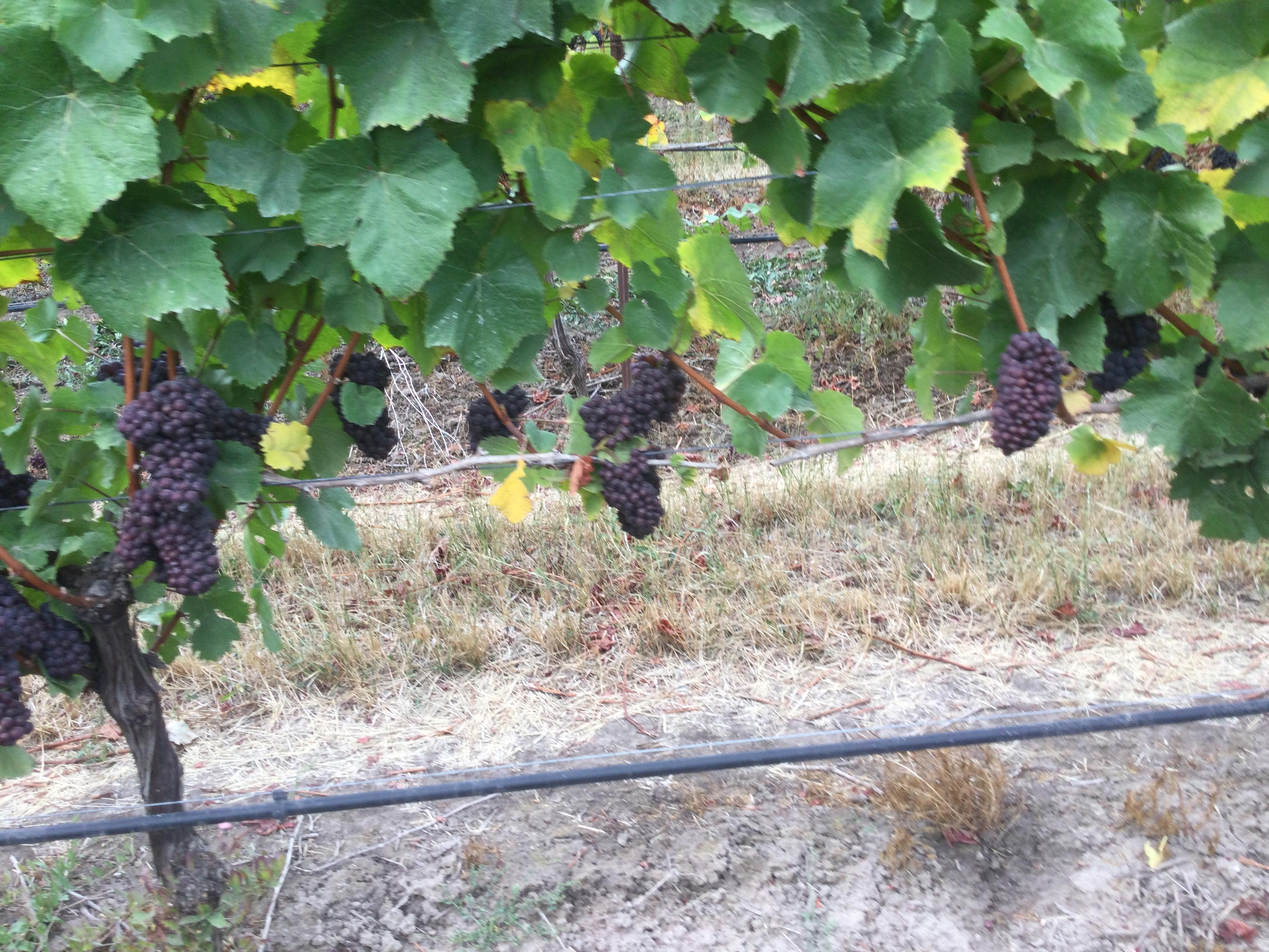leaf: (0, 25, 158, 238), (301, 128, 477, 298), (54, 182, 227, 338), (979, 0, 1139, 150), (814, 104, 964, 260), (313, 0, 474, 129), (1099, 169, 1223, 313), (426, 229, 544, 379), (845, 190, 984, 314), (1005, 175, 1110, 327), (1152, 0, 1268, 136), (731, 0, 875, 105), (1121, 355, 1264, 457), (203, 91, 304, 217), (1169, 438, 1268, 541), (905, 295, 985, 419), (679, 233, 764, 340), (609, 3, 696, 102), (212, 0, 325, 75), (484, 86, 582, 172), (55, 0, 152, 81), (431, 0, 552, 63), (684, 32, 767, 121), (213, 203, 305, 280), (592, 192, 683, 267), (1215, 224, 1268, 350), (598, 144, 676, 228), (733, 102, 809, 175), (521, 146, 591, 221), (134, 35, 217, 93), (216, 319, 285, 388), (766, 177, 832, 245), (294, 487, 360, 550), (725, 362, 797, 418), (970, 116, 1035, 174), (306, 400, 352, 477), (1066, 424, 1135, 474), (629, 258, 692, 312), (1057, 303, 1105, 372), (208, 441, 261, 502), (622, 294, 680, 349), (761, 330, 813, 391), (139, 0, 213, 40), (488, 459, 531, 523), (544, 231, 600, 280), (261, 420, 313, 470), (806, 390, 863, 434), (720, 405, 768, 456), (189, 612, 240, 660), (651, 0, 722, 33), (249, 581, 282, 651), (588, 325, 635, 371), (338, 381, 385, 425), (0, 744, 35, 780), (819, 436, 845, 442), (287, 56, 292, 60), (129, 4, 136, 6), (183, 602, 185, 609), (1194, 347, 1197, 350), (606, 360, 612, 361), (323, 405, 324, 410), (323, 80, 324, 84), (186, 609, 187, 613), (781, 410, 782, 411)
